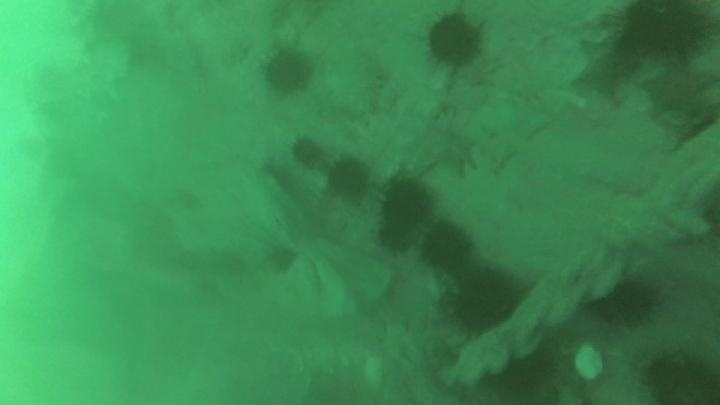echinus: (619, 1, 711, 58), (449, 267, 522, 334), (642, 348, 719, 404), (423, 11, 486, 70), (496, 349, 554, 402), (600, 276, 660, 326), (379, 175, 436, 227), (419, 220, 475, 272), (262, 46, 315, 96), (326, 155, 372, 200), (376, 218, 416, 254), (289, 134, 328, 170), (264, 242, 300, 277)
starfish: (470, 98, 551, 172), (570, 33, 641, 100), (639, 59, 715, 120)
